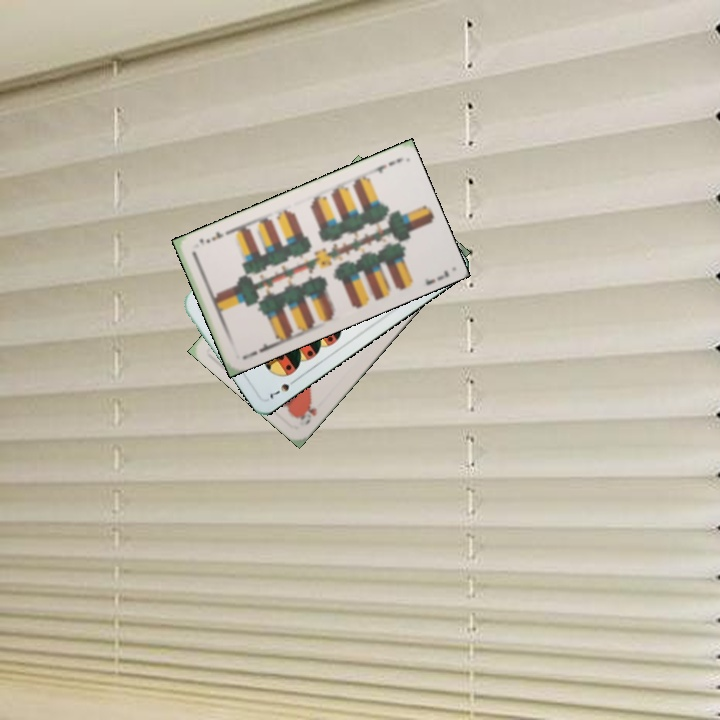E7: (238, 339, 277, 362), (364, 154, 403, 176)
HO: (293, 398, 320, 428)
S7: (266, 374, 301, 402)
